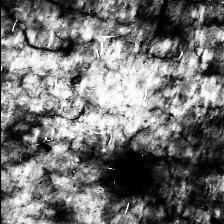Potentially Malignant Skin Tumors: (112, 152, 150, 191), (29, 130, 56, 155), (200, 206, 224, 224)
